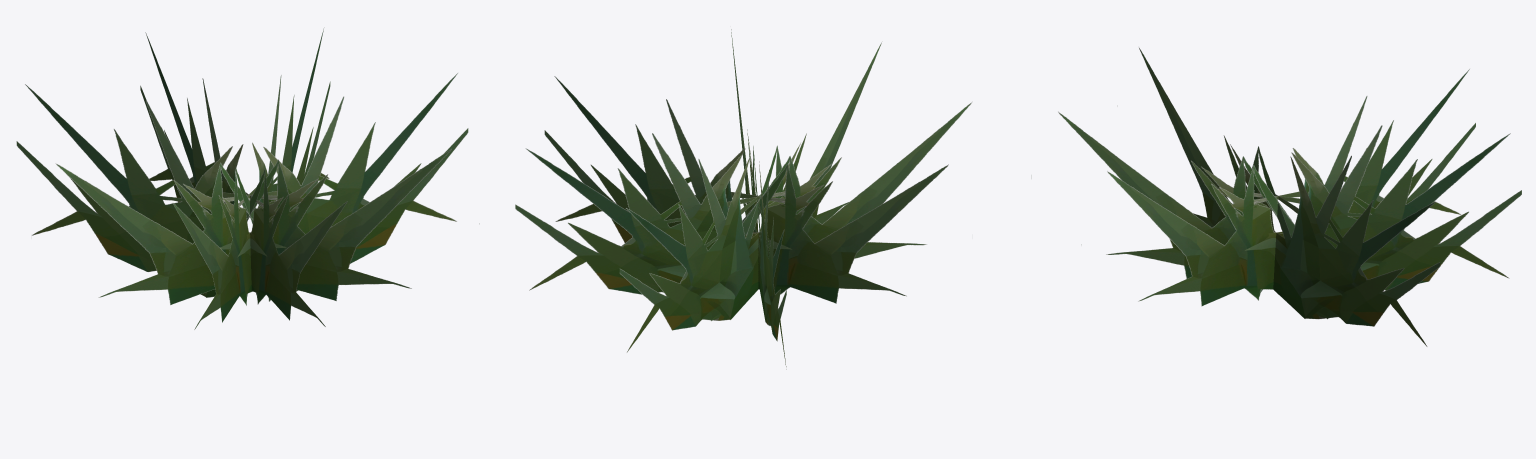
Rendered from Mowed billboard LOD_000_5.glb.
3 renders of one model, left to right at view 1: azimuth 30°, elevation 25°; view 2: azimuth 150°, elevation 25°; view 3: azimuth 270°, elevation 25°, orthographic. The views are drawn at different scales.
Visible parts, largest first — view 1: MeshInstance3D; view 2: MeshInstance3D; view 3: MeshInstance3D.
Boxes of the visible parts, left/top/right/bottom form: MeshInstance3D: left=16, top=27, right=479, bottom=329; MeshInstance3D: left=515, top=29, right=972, bottom=369; MeshInstance3D: left=1058, top=48, right=1521, bottom=346.
Size of the model in its own units: 1 by 0.5113 by 0.9973.
4 materials, 4 textured.
